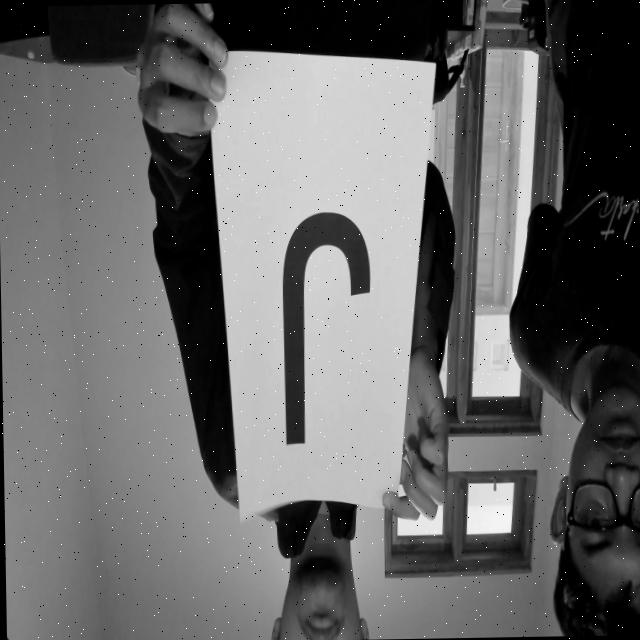j: (274, 196, 376, 456)
